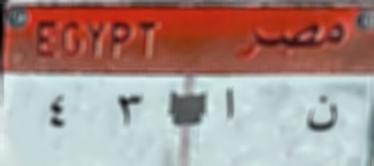3: (112, 89, 148, 134)
4: (35, 90, 88, 134)
alif: (220, 78, 246, 122)
noon: (302, 90, 342, 138)
